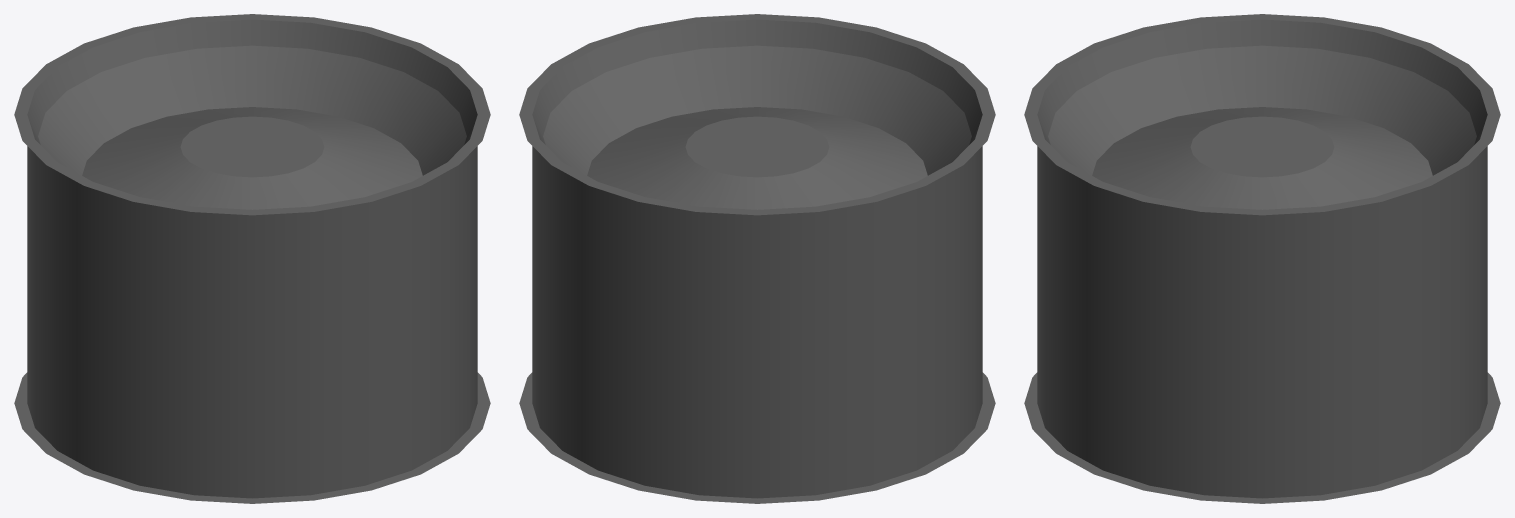
Rendered from WheelsBase.fbx.
3 renders of one model, left to right at view 1: azimuth 30°, elevation 25°; view 2: azimuth 150°, elevation 25°; view 3: azimuth 270°, elevation 25°, orthographic.
Visible parts, largest first — view 1: baseWheel; view 2: baseWheel; view 3: baseWheel.
Boxes of the visible parts, x1,y1,x2,y2 form: baseWheel: (14,14,490,503); baseWheel: (519,14,995,503); baseWheel: (1024,14,1500,503).
Bounding box in the file's own units: 0.2926 × 0.1956 × 0.2926.
